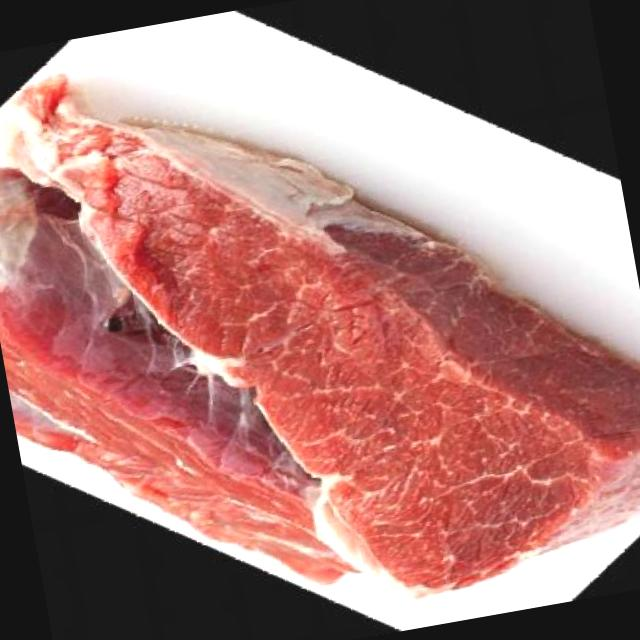beef: (0, 0, 640, 640), (0, 114, 366, 636)
